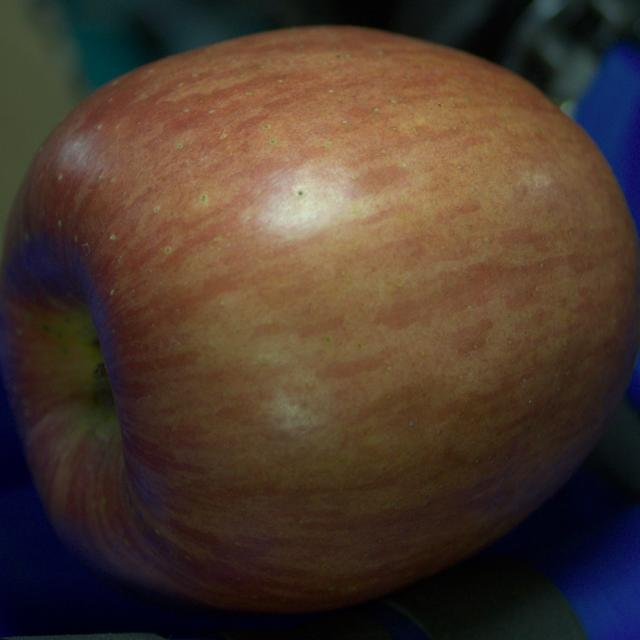apple: (0, 26, 639, 612)
